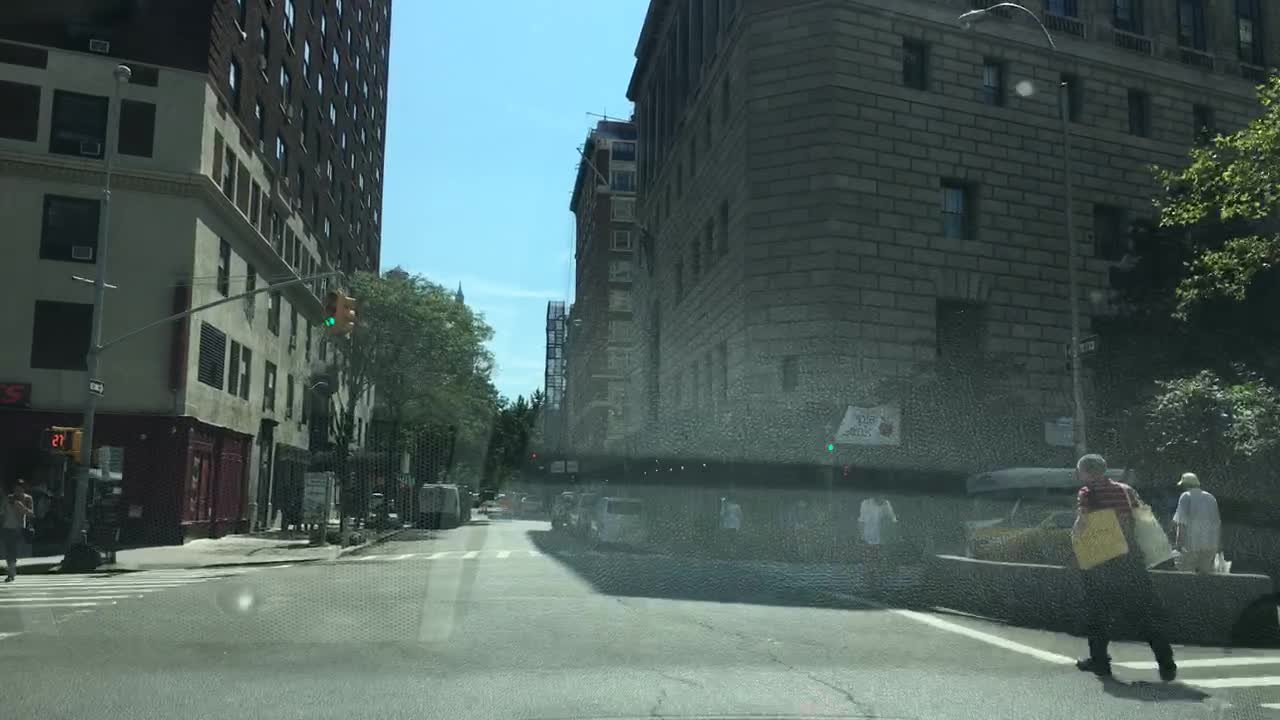car: (966, 487, 1085, 546), (984, 511, 1090, 559), (591, 497, 645, 546), (417, 484, 458, 528), (569, 489, 593, 535), (549, 493, 573, 531), (358, 508, 399, 530), (498, 493, 520, 513), (458, 486, 470, 522)
person: (1070, 452, 1178, 684), (1173, 471, 1230, 588), (863, 486, 896, 597), (0, 474, 34, 579), (718, 495, 747, 555)
traffic light: (322, 287, 346, 333), (41, 425, 76, 452), (344, 295, 355, 333)
traffic sign: (1057, 331, 1103, 361), (83, 377, 109, 399)
